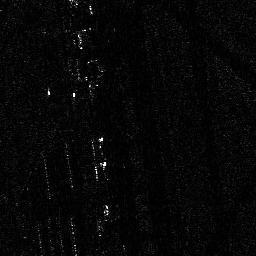ship: (97, 136, 107, 171)
